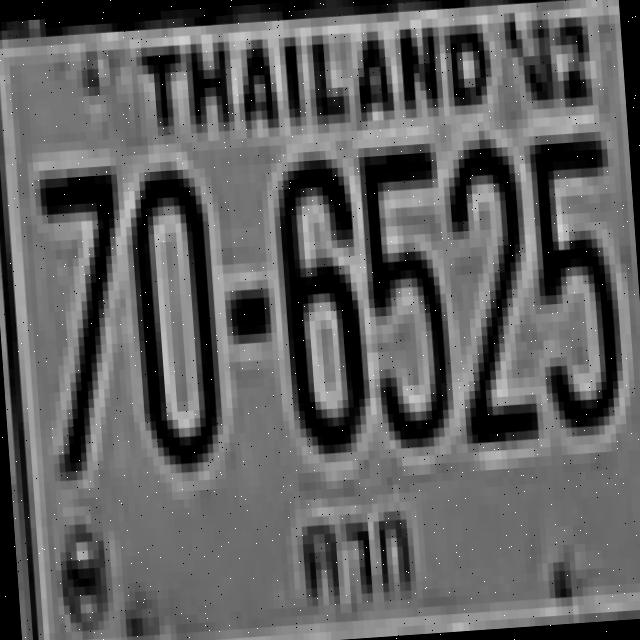0: (121, 159, 219, 466)
2: (440, 133, 532, 440)
5: (522, 123, 620, 430), (355, 135, 447, 441)
6: (272, 149, 364, 447)
7: (34, 165, 132, 472)
Tak: (282, 492, 419, 614)
